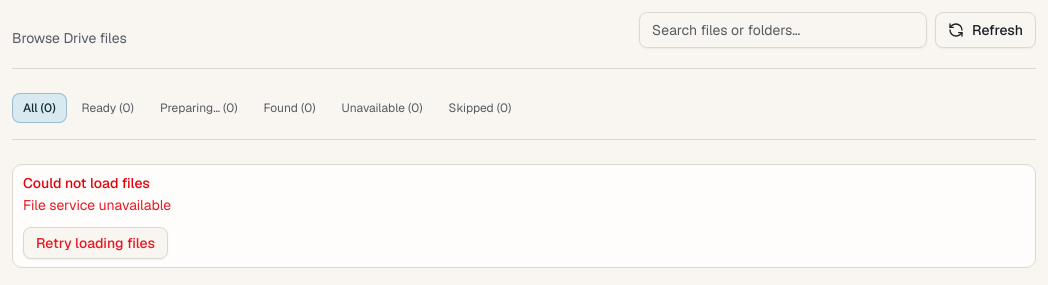
Files browser › contains a file-list error and offers a real retry
Check: the text "Could not load files" is shown, box [23,174,150,192]
Check: the text "File service unavailable" is shown, box [23,196,171,214]
Click the button "Retry loading files": (96, 243) [23,227,168,259]
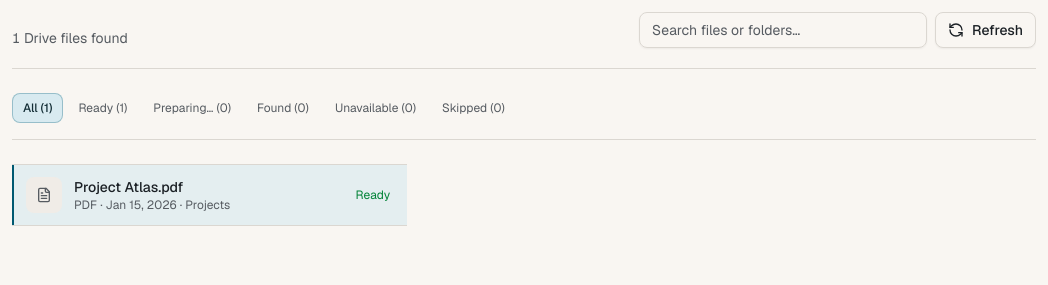
Check: the text "Project Atlas.pdf" is shown, box [74,178,183,196]
